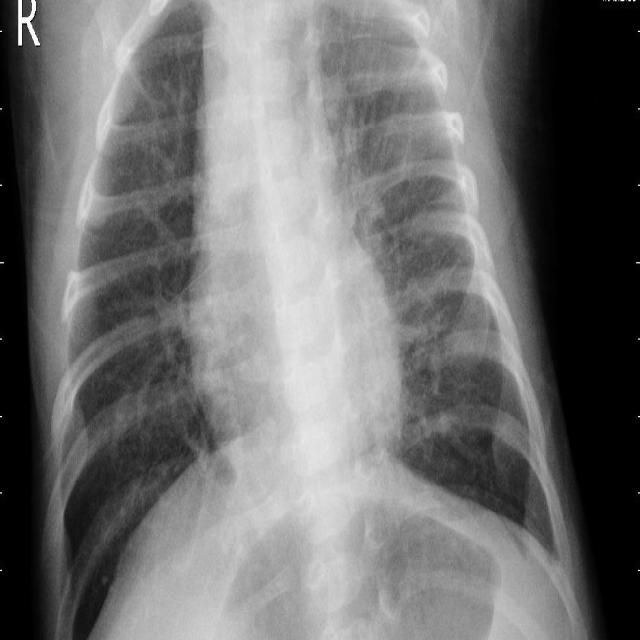low-pneumonia: (399, 271, 476, 473), (322, 85, 409, 250), (137, 298, 196, 431)
